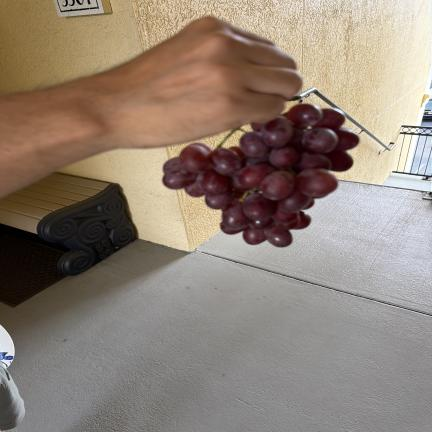grape_cluster: (163, 104, 358, 247)
